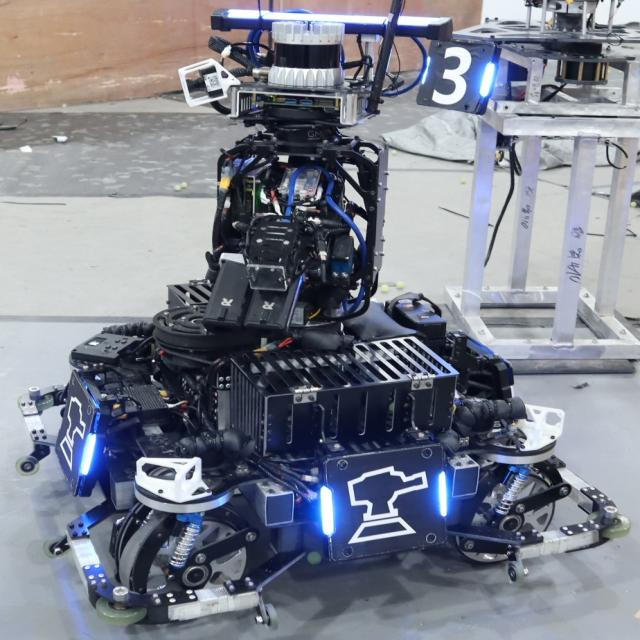B3: (418, 44, 491, 107)
Bs: (316, 458, 452, 545), (57, 384, 100, 484)
